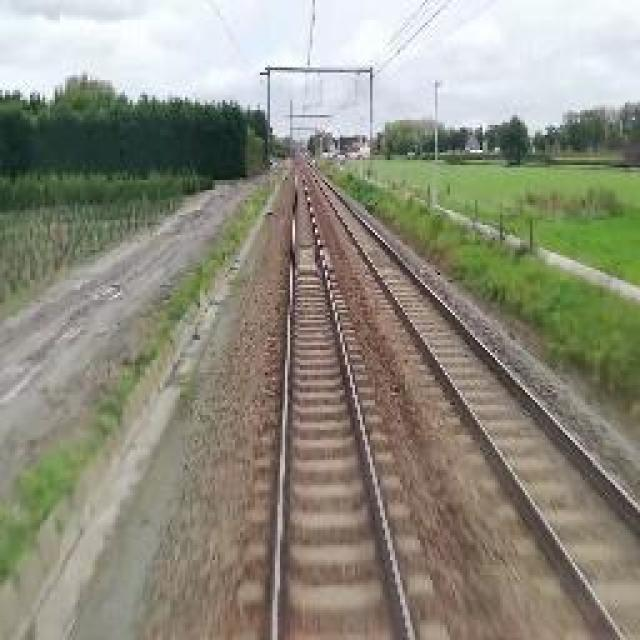rail: (240, 160, 460, 640)
